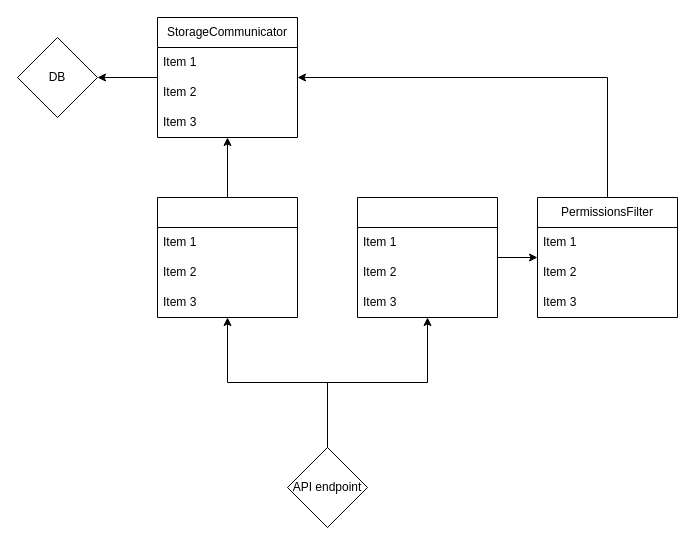
Image size: 695x545. Some labels were removed from this diagram. Here are the shapes that lost their labels. From the top down, the box of each, then its label:
(156, 196, 298, 318): LoginValidator
(356, 196, 498, 318): PostFactory
